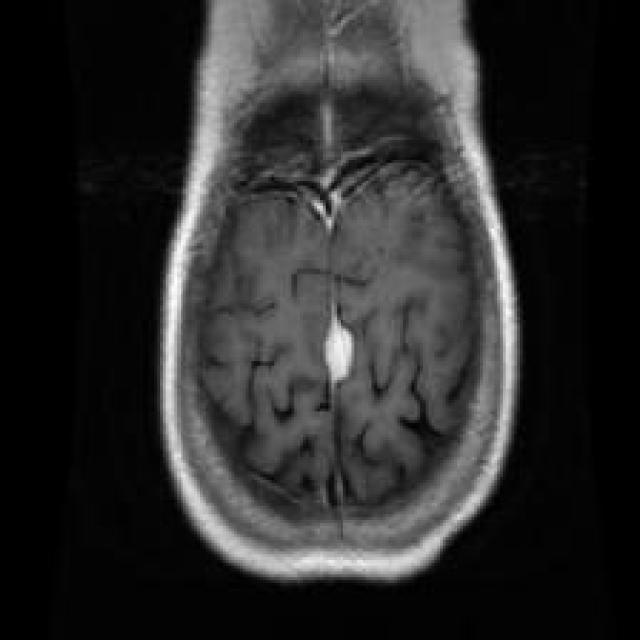meningioma_tumor: (313, 283, 370, 415)
